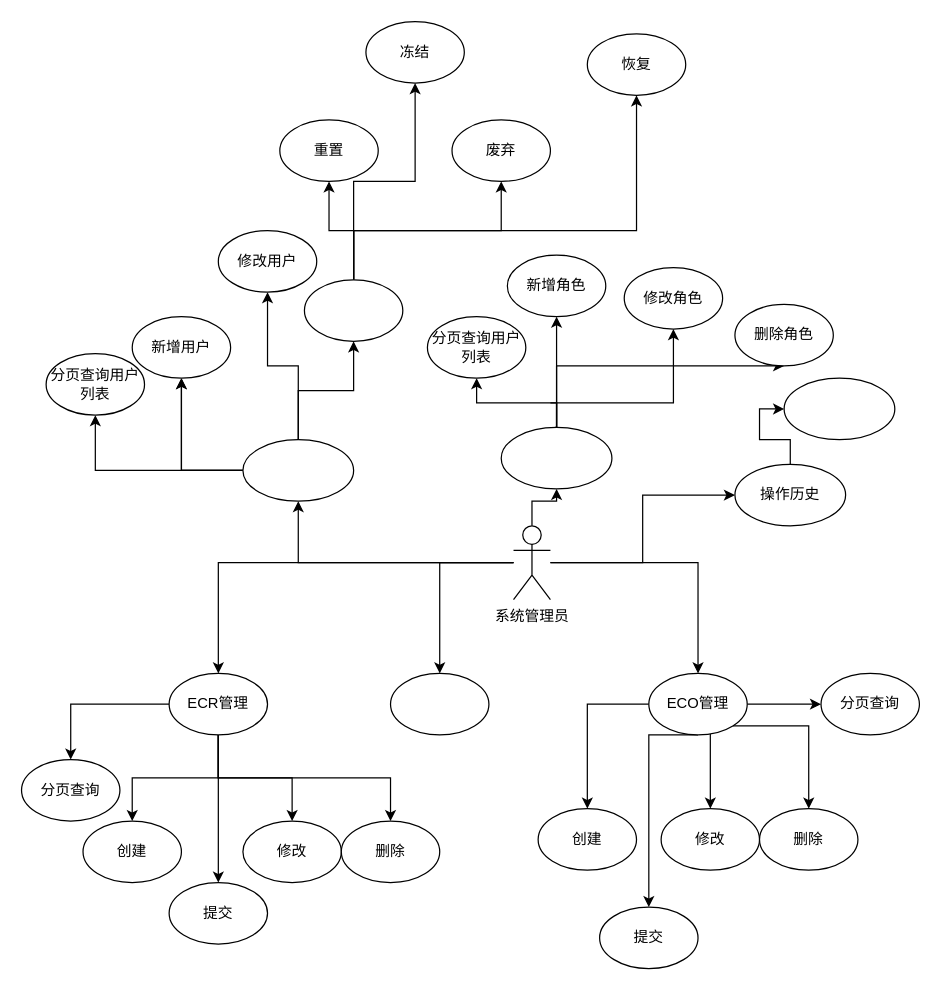
Image size: 941x990. Some labels were removed from this diagram. Each missing label, with the centre of its shape:
操作用户: the point at 353,310
查看统计数据: the point at 439,703
查询: the point at 839,408
用户管理: the point at 298,469
角色管理: the point at 556,457
